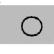no answer: (18, 14, 48, 39)
